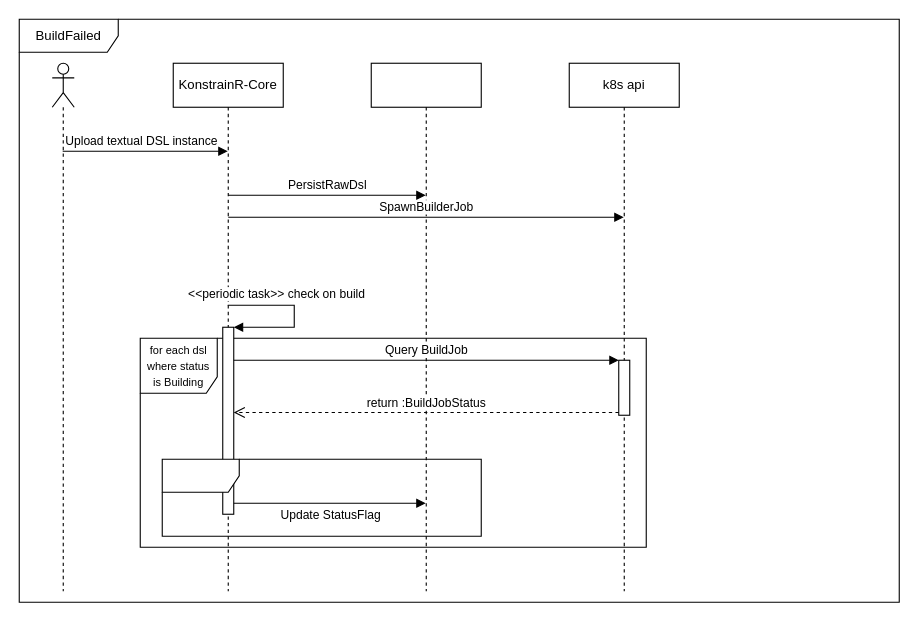
The diagram is 919 pixels wide and 622 high, and some of its shapes have lost their labels. Here are the shapes that lost their labels. From the top down, the box of each, then its label:
(370, 62, 481, 591): Konstrainer-Db
(161, 458, 481, 536): based on job status
